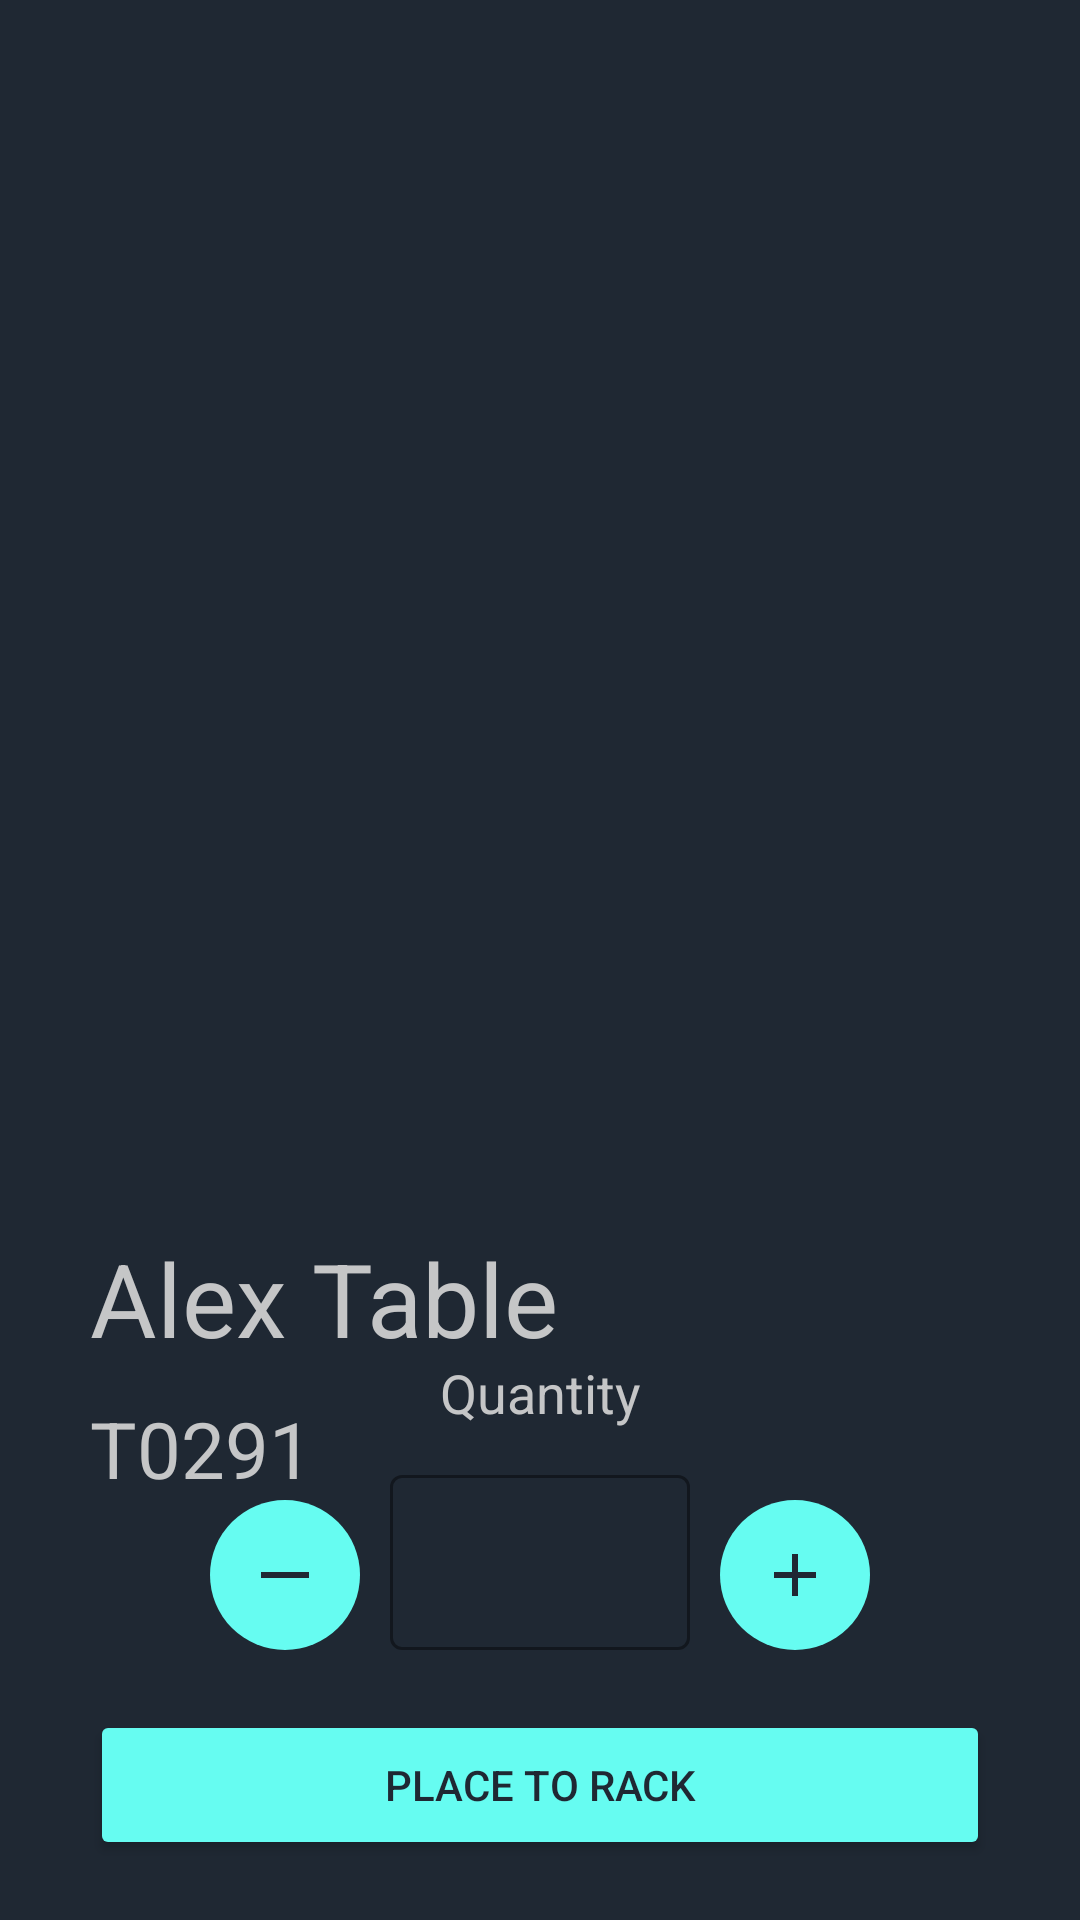

Where icons sit on this 1080w x 1920h app screen, as (x1, y1, x2, y2):
add: (720, 1500, 870, 1650)
minus: (210, 1500, 360, 1650)
